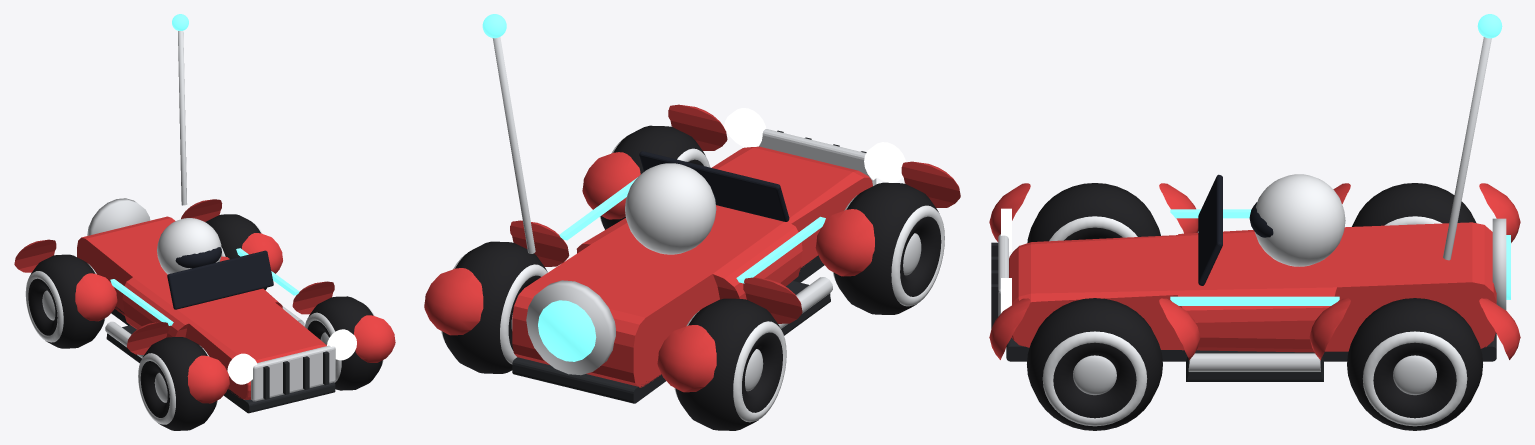
The model's file is kart-radio.glb.
3 renders of one model, left to right at view 1: azimuth 30°, elevation 25°; view 2: azimuth 150°, elevation 25°; view 3: azimuth 270°, elevation 25°, orthographic. The views are drawn at different scales.
Visible parts, largest first — view 1: Hull.008, Wheel_RL.003, Wheel_FL.003, Box.044, Wheel_FR.003, Ball.004, Ball.005, Box.039, Ball.006, Helmet.002, Box.036, Ball.007 (+8 smaller); view 2: Hull.008, Wheel_RL.003, Wheel_FL.003, Wheel_RR.003, Helmet.002, Ball.005, Ball.004, Ball.007, Ball.006, Cyl.005, Box.036, Box.044 (+9 smaller); view 3: Hull.008, Wheel_FR.003, Wheel_RR.003, Helmet.002, Wheel_FL.003, Wheel_RL.003, Box.036, Rod.016, Ball.006, Ball.007, Box.044, Rod.017 (+6 smaller).
Part boxes in pixels (x1,y1,x2,y2): Hull.008: (77,216,326,399); Wheel_RL.003: (25,254,105,348); Wheel_FL.003: (138,337,217,430); Box.044: (167,250,273,309); Wheel_FR.003: (304,296,383,390); Ball.004: (127,322,229,403); Ball.005: (14,239,117,321); Box.039: (251,345,335,401); Ball.006: (292,281,395,362); Helmet.002: (157,218,221,274); Box.036: (106,306,335,413); Ball.007: (181,199,282,273); Hull.008: (512,146,872,387); Wheel_RL.003: (674,298,786,430); Wheel_FL.003: (832,182,944,314); Wheel_RR.003: (441,241,547,373); Helmet.002: (625,163,716,254); Ball.005: (657,277,802,392); Ball.004: (815,161,960,276); Ball.007: (424,220,569,335); Ball.006: (582,104,727,219); Cyl.005: (526,280,615,375); Box.036: (512,255,830,403); Box.044: (639,151,789,221); Hull.008: (1009,222,1496,352); Wheel_FR.003: (1027,298,1162,430); Wheel_RR.003: (1347,298,1482,430); Helmet.002: (1255,174,1345,266); Wheel_FL.003: (1027,183,1160,242); Wheel_RL.003: (1352,183,1476,226); Box.036: (1006,333,1496,381); Rod.016: (1188,353,1320,371); Ball.006: (989,298,1200,360); Ball.007: (1309,298,1520,360); Box.044: (1198,174,1222,285); Rod.017: (1443,37,1491,260).
Bounding box in the file's own units: 2.58 × 3.19 × 3.9.
